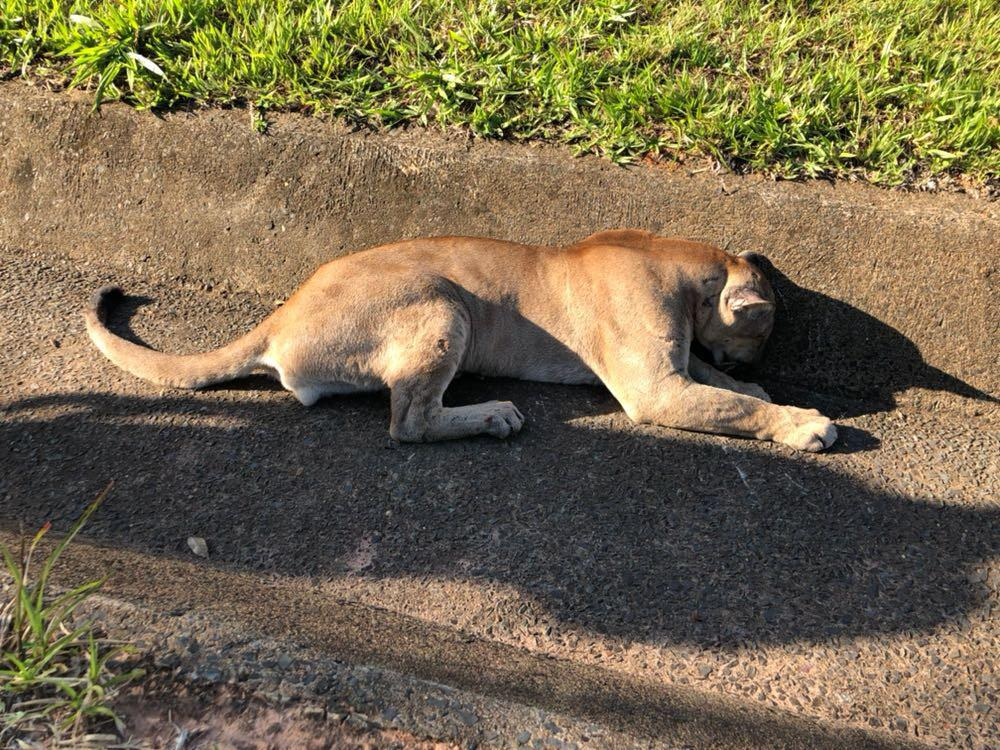OncaParda: (78, 225, 856, 460)
